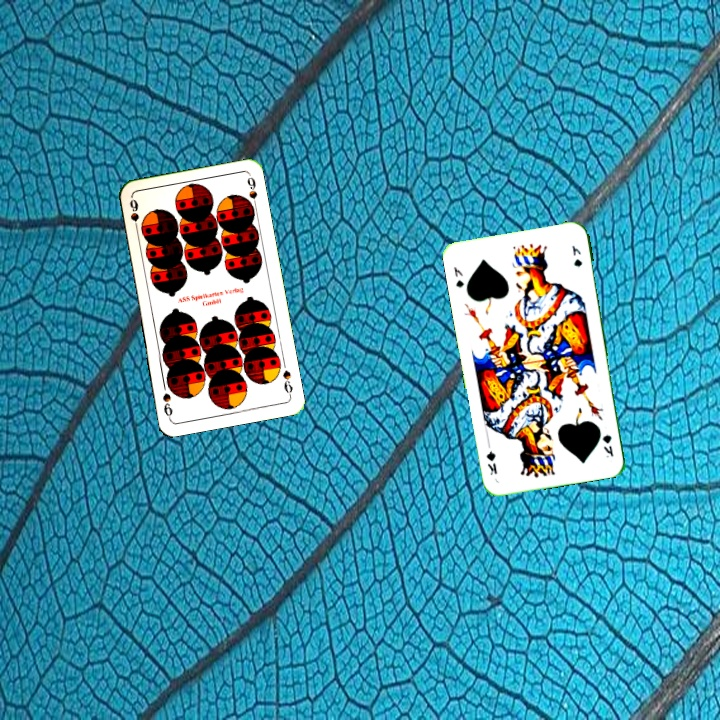GK: (599, 431, 616, 460), (450, 263, 467, 290)
S9: (125, 195, 141, 235), (279, 366, 295, 399)
